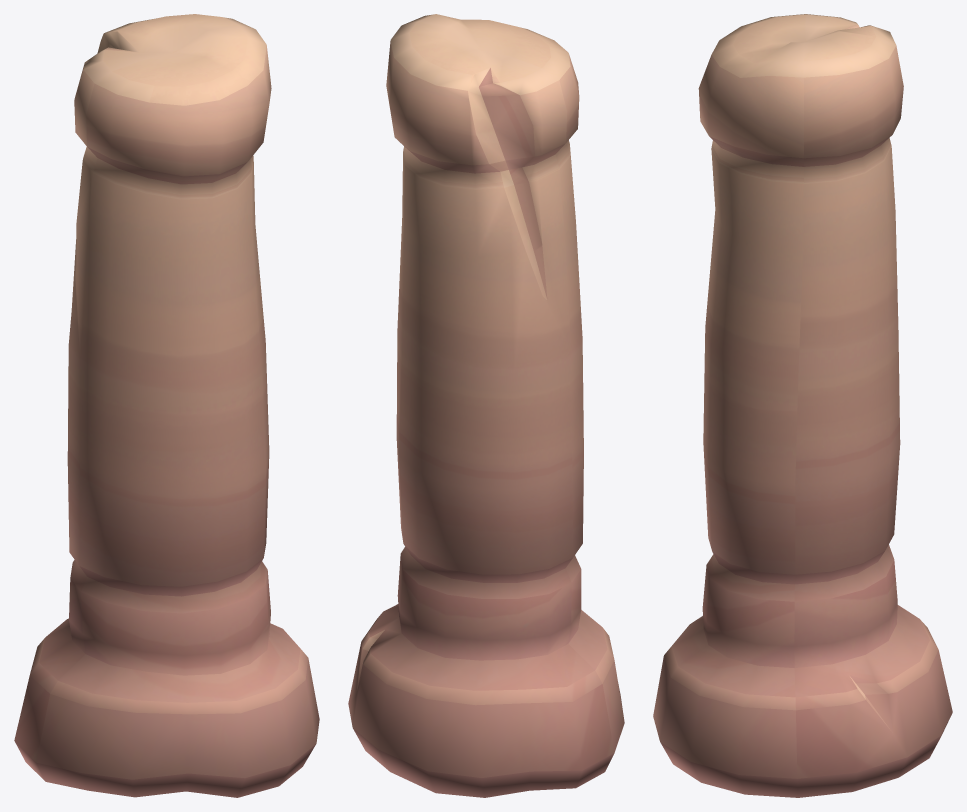
File: Desert_Temple_Pillar_01.fbx
The picture shows the model from 3 angles, left to right: view 1: azimuth 30°, elevation 25°; view 2: azimuth 150°, elevation 25°; view 3: azimuth 270°, elevation 25°; orthographic projection. The views are drawn at different scales.
Parts seen in each view (by area): view 1: Pillar; view 2: Pillar; view 3: Pillar.
Boxes of the visible parts, box(x1,y1,x2,y2) form: Pillar: box(14, 14, 319, 797); Pillar: box(348, 14, 624, 797); Pillar: box(653, 14, 952, 797).
Bounding box in the file's own units: 3.73 × 9.94 × 3.71.
